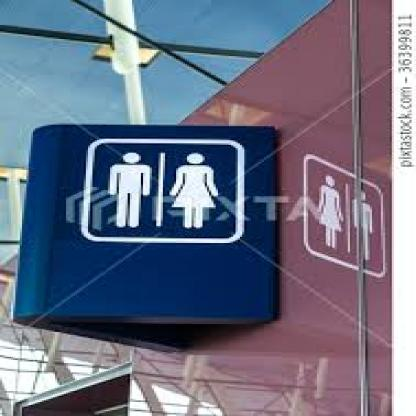toilet: (107, 148, 230, 230)
